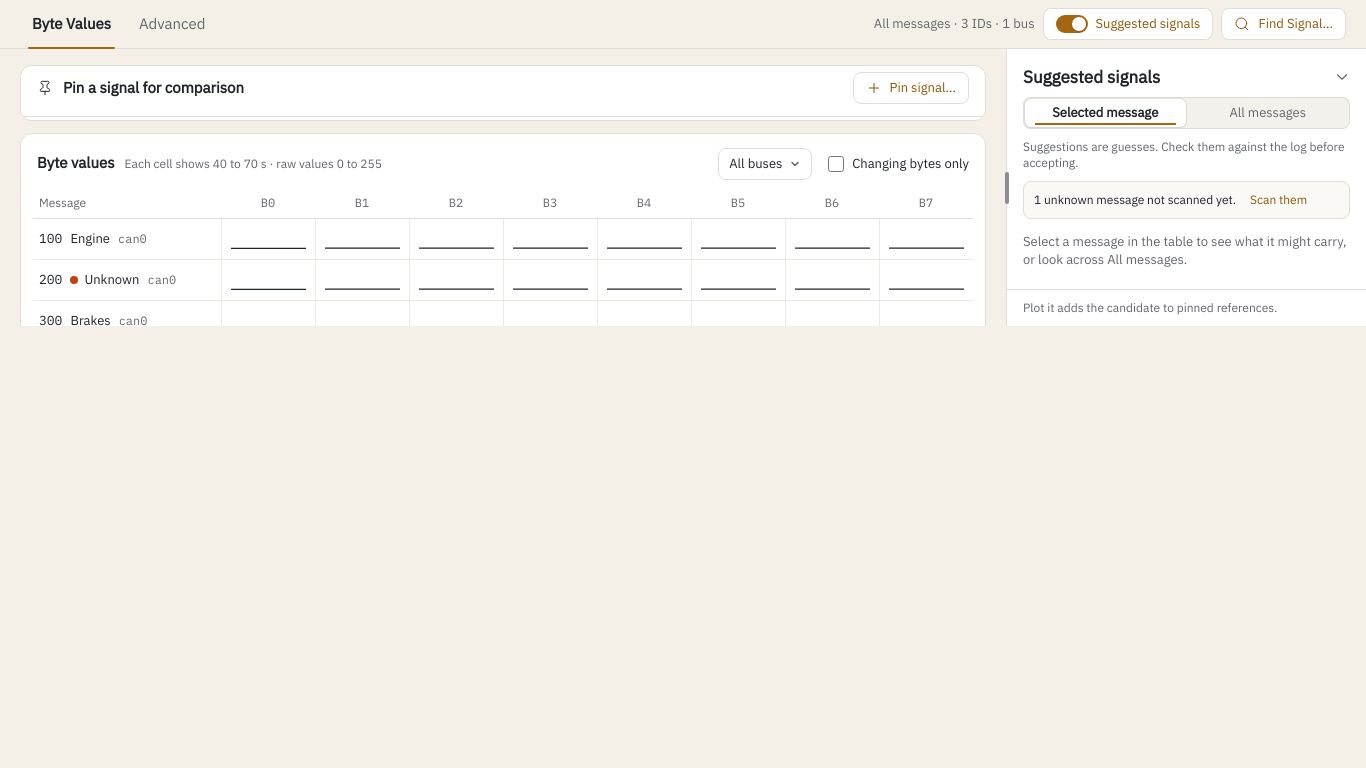
it: Pin signal sheet › lists every decoded signal and none of the unknown message
Click the button "Pin signal…".
click(911, 88)  # box 852,72 -> 969,104
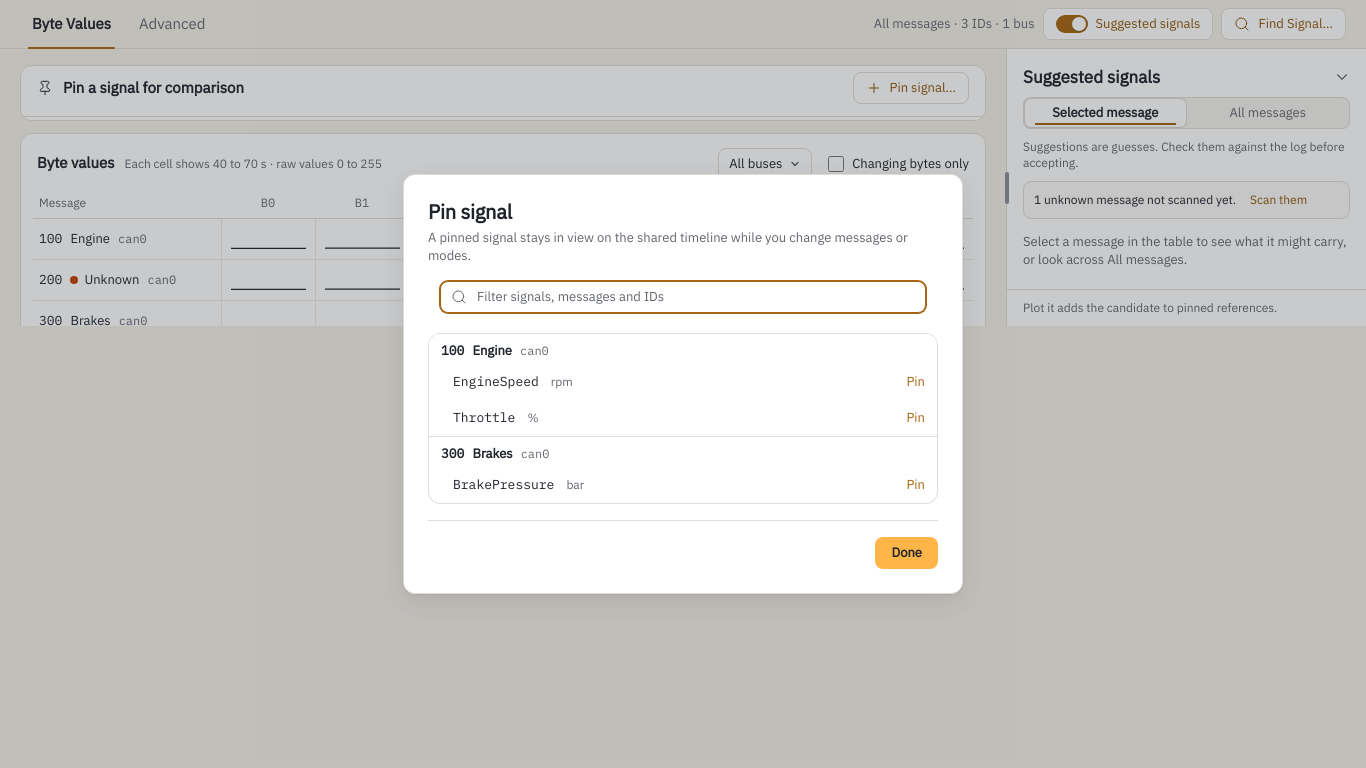
expect the button "Throttle % Pin" is shown: met, box 429,400 -> 937,436
